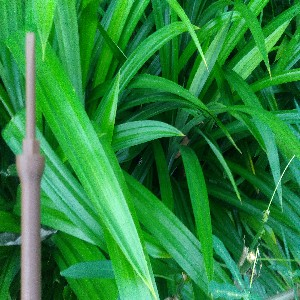obeng: (14, 30, 46, 300)
